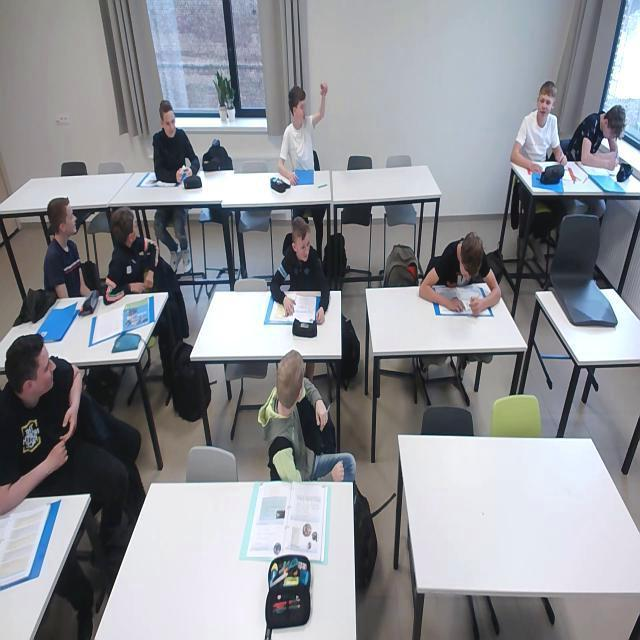Looking away: (0, 316, 151, 517), (278, 214, 329, 268), (531, 81, 560, 132), (157, 98, 184, 144)
Raising hand: (278, 75, 328, 180)
Reading-writing: (566, 91, 634, 178)
Turning around: (234, 352, 384, 492), (420, 228, 505, 318), (108, 204, 166, 300), (38, 198, 92, 300)
